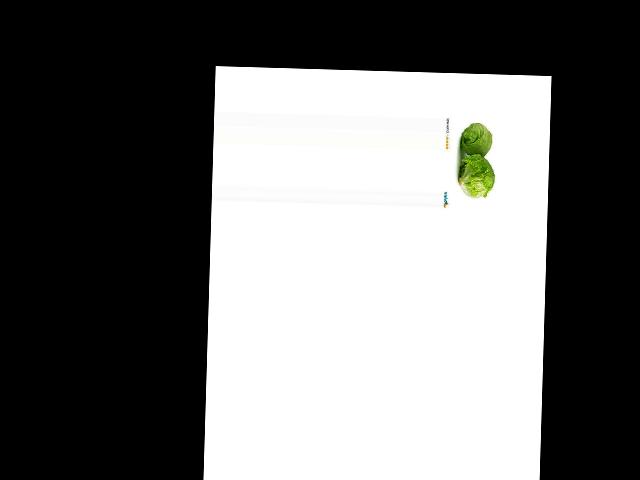lettuce: (452, 120, 493, 166)
